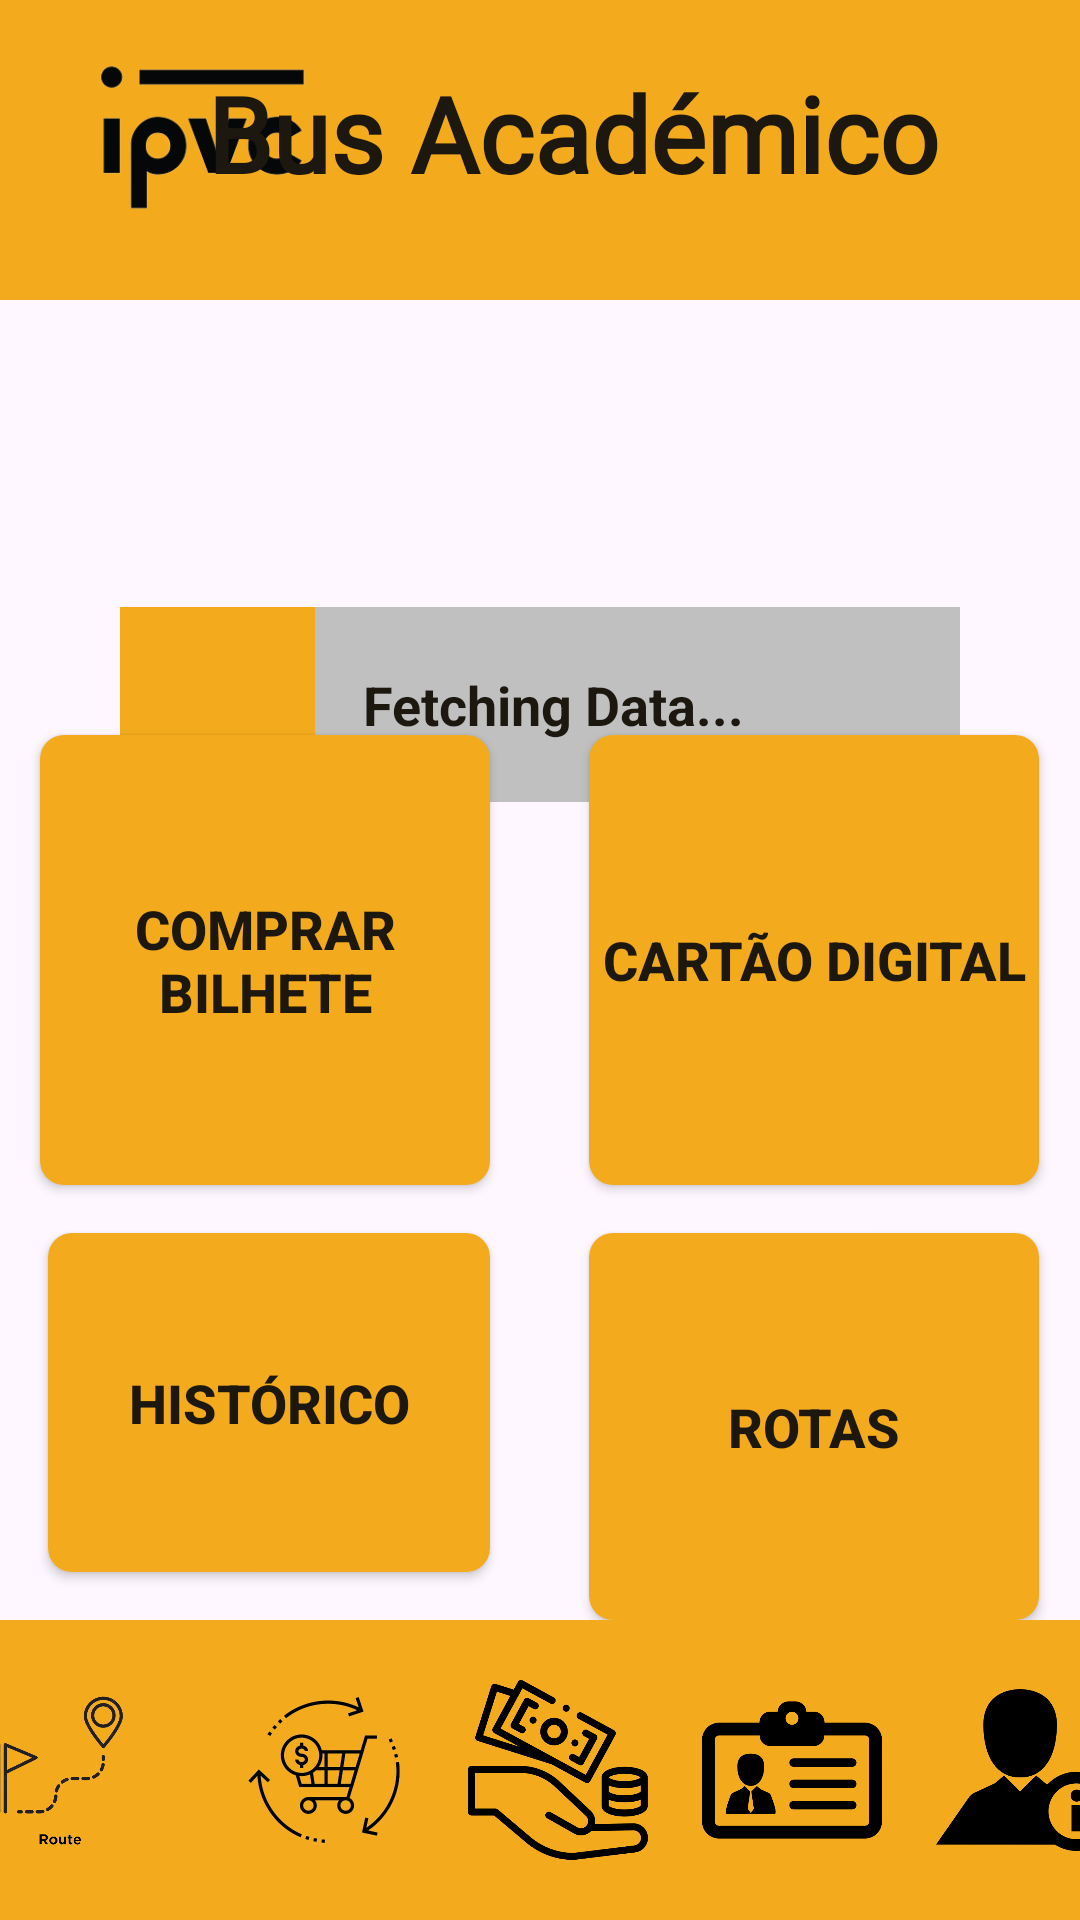

Icons on this 1080 × 1920 Android screen, each with its box as [x1=x1, y1=y1, x2=x2, y2=y2]:
Card Button: [x1=702, y1=1701, x2=882, y2=1839]
History Button: [x1=248, y1=1697, x2=400, y2=1843]
Payment Button: [x1=468, y1=1680, x2=648, y2=1860]
